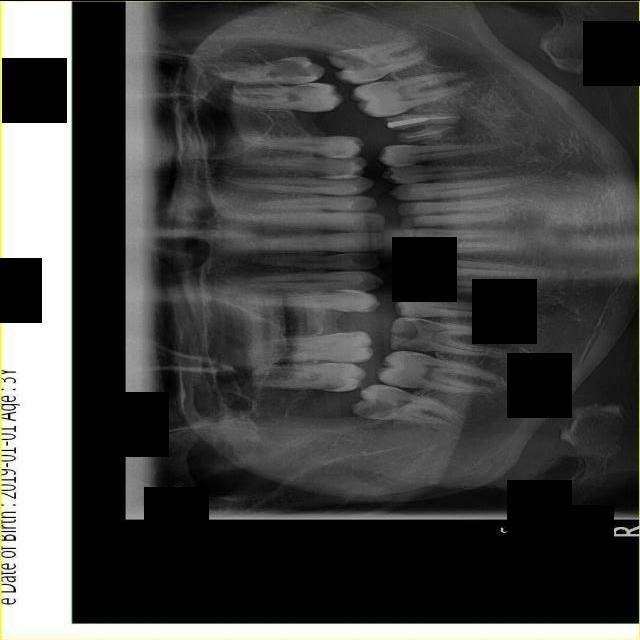71: (390, 115, 429, 128)
74: (403, 125, 452, 139), (427, 115, 454, 117)
Sterngold Implant: (392, 316, 440, 350), (355, 392, 398, 422), (269, 56, 315, 81), (331, 50, 371, 70), (291, 81, 317, 93), (317, 382, 343, 390), (345, 304, 365, 314), (335, 332, 363, 338), (406, 310, 428, 316)
